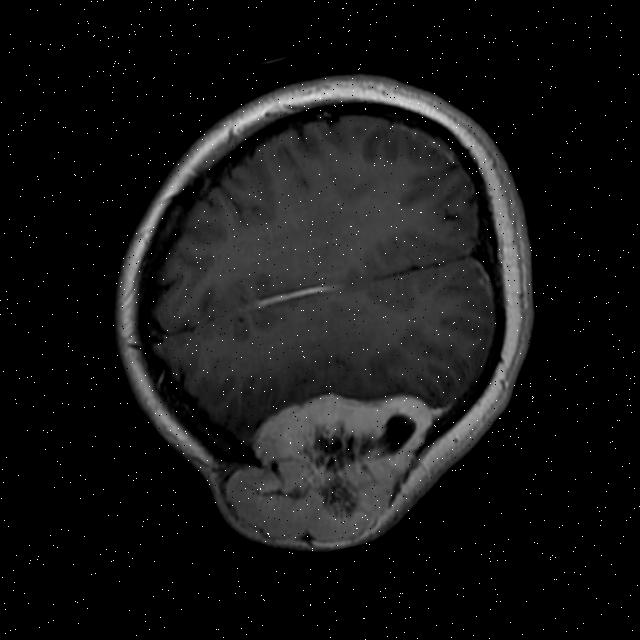Meningioma: (212, 367, 451, 571)
